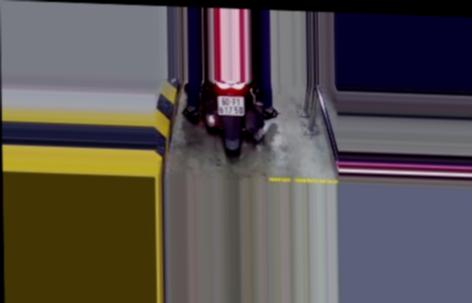License_Plate: (215, 95, 247, 116)
